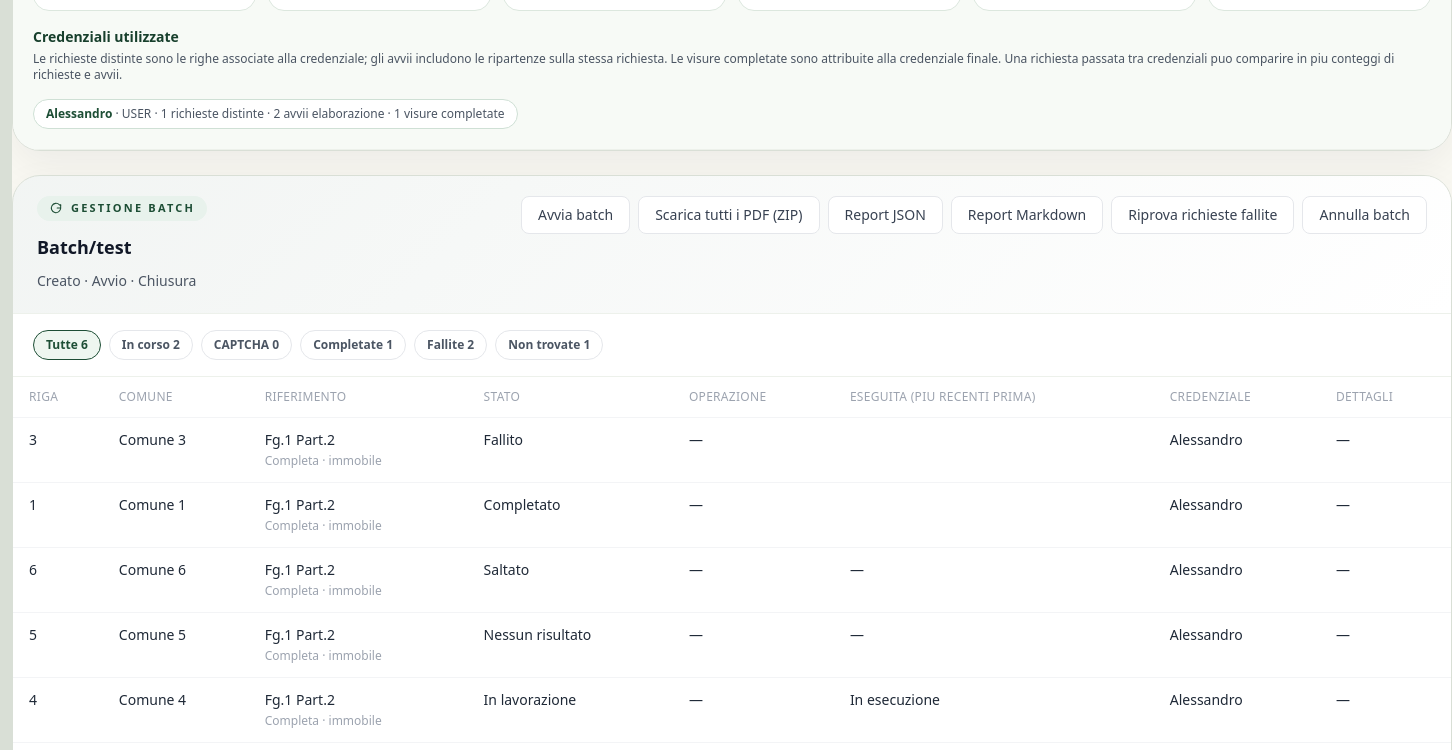
it: batch detail interactions › shows credential names and keeps descending order across filters and refreshes
The width and height of the screenshot is (1452, 750).
(page scrolled)
Click the button "In corso 2".
click(151, 345)  # box top-left (109, 330), bottom-right (193, 360)
(page scrolled)
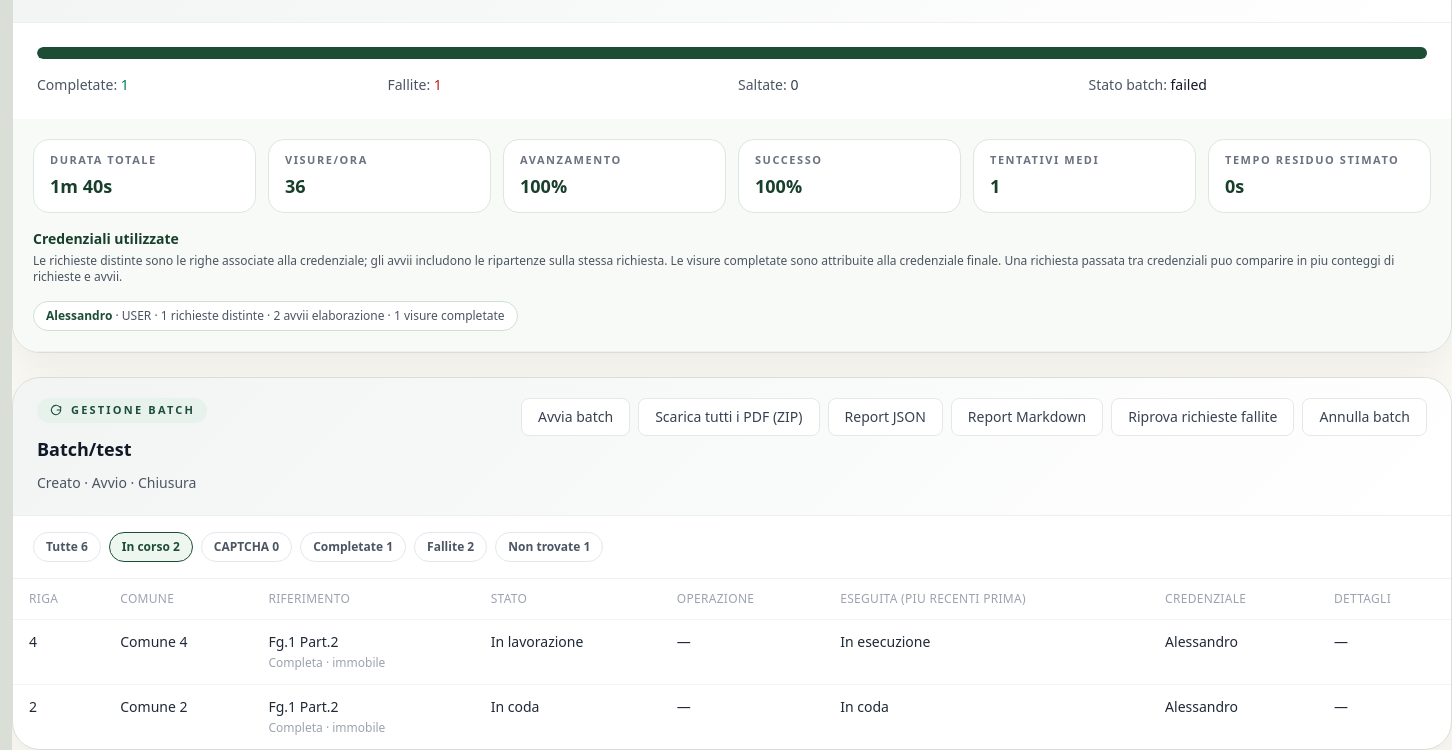
Click the button "Completate 1".
click(353, 547)  # box top-left (300, 532), bottom-right (406, 562)
(page scrolled)
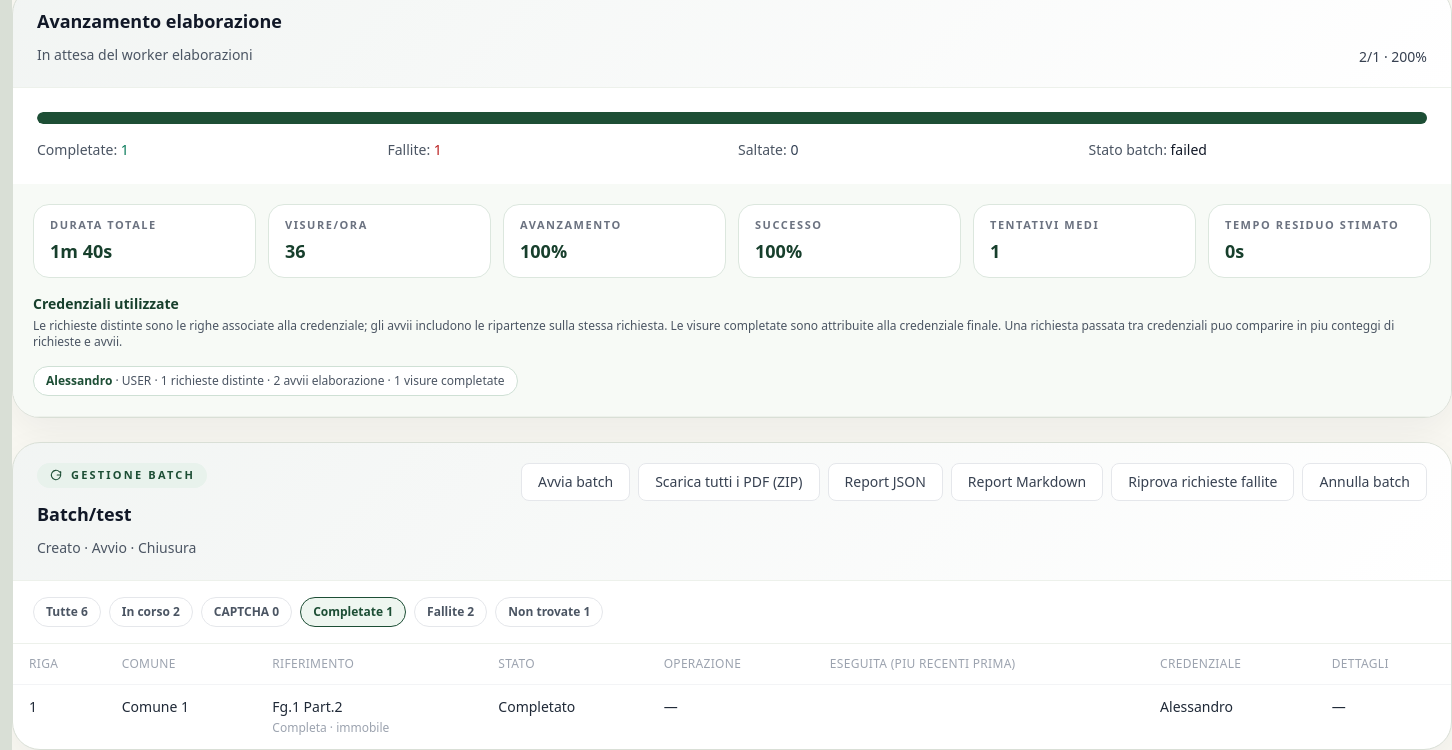
Click the button "Fallite 2".
click(451, 612)  # box top-left (414, 597), bottom-right (487, 627)
(page scrolled)
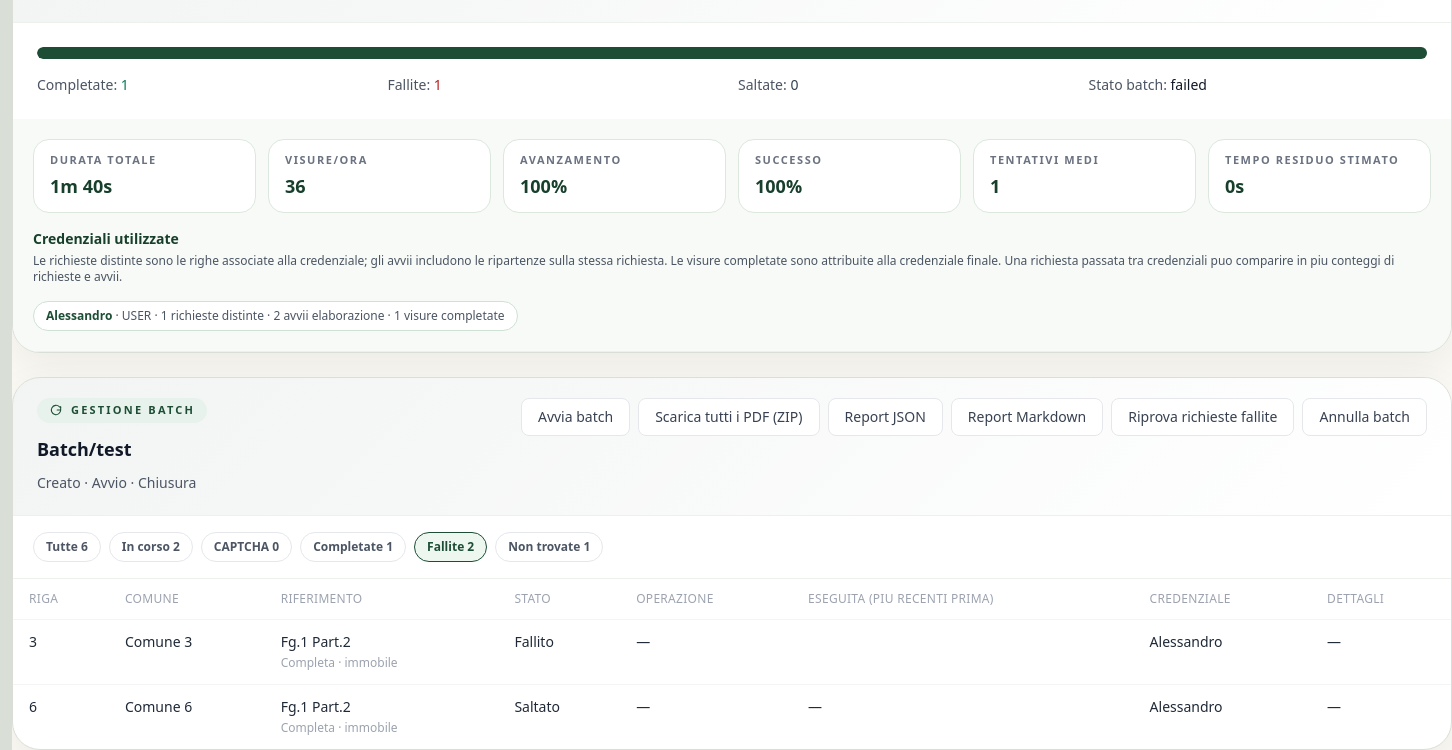
Click the button "Non trovate 1".
click(549, 547)  # box top-left (495, 532), bottom-right (603, 562)
(page scrolled)
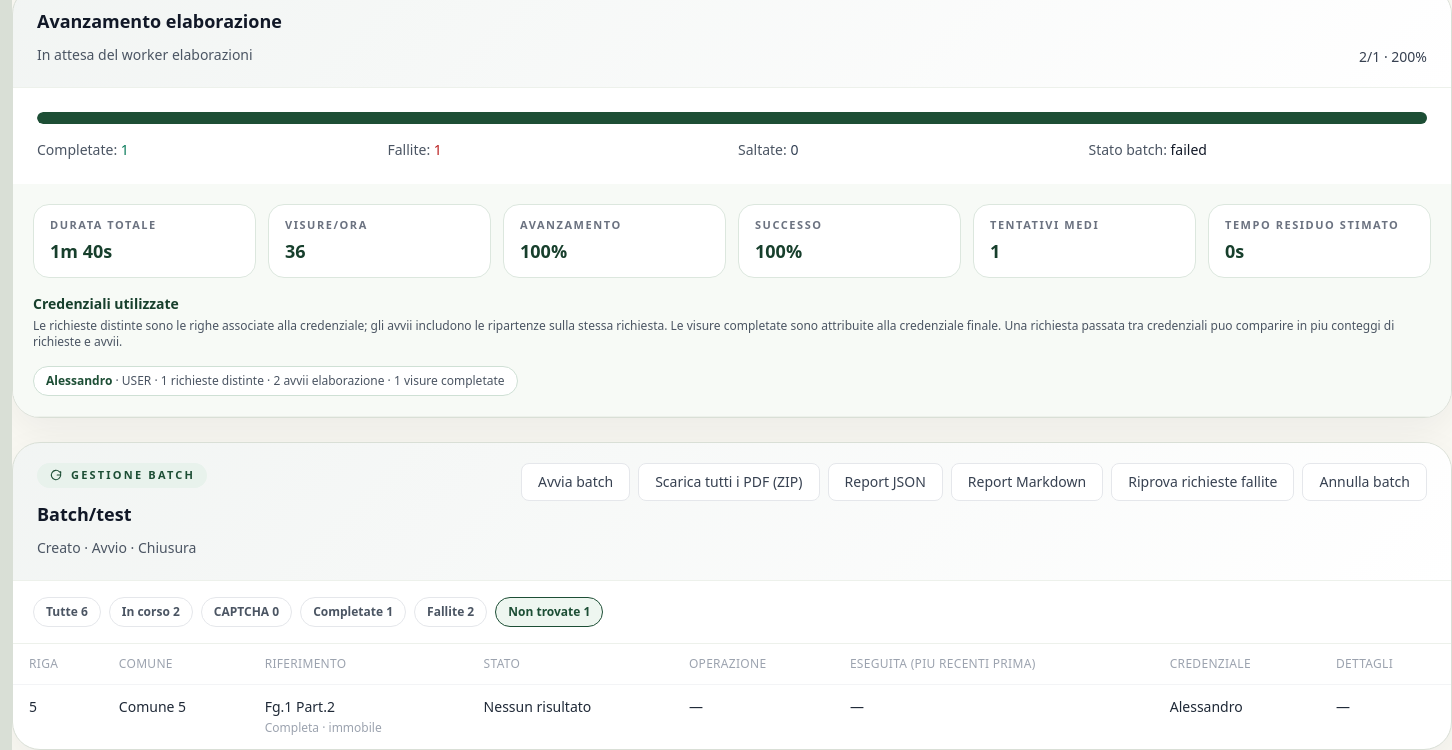
Click the button "CAPTCHA 0".
click(247, 612)  # box top-left (201, 597), bottom-right (292, 627)
(page scrolled)
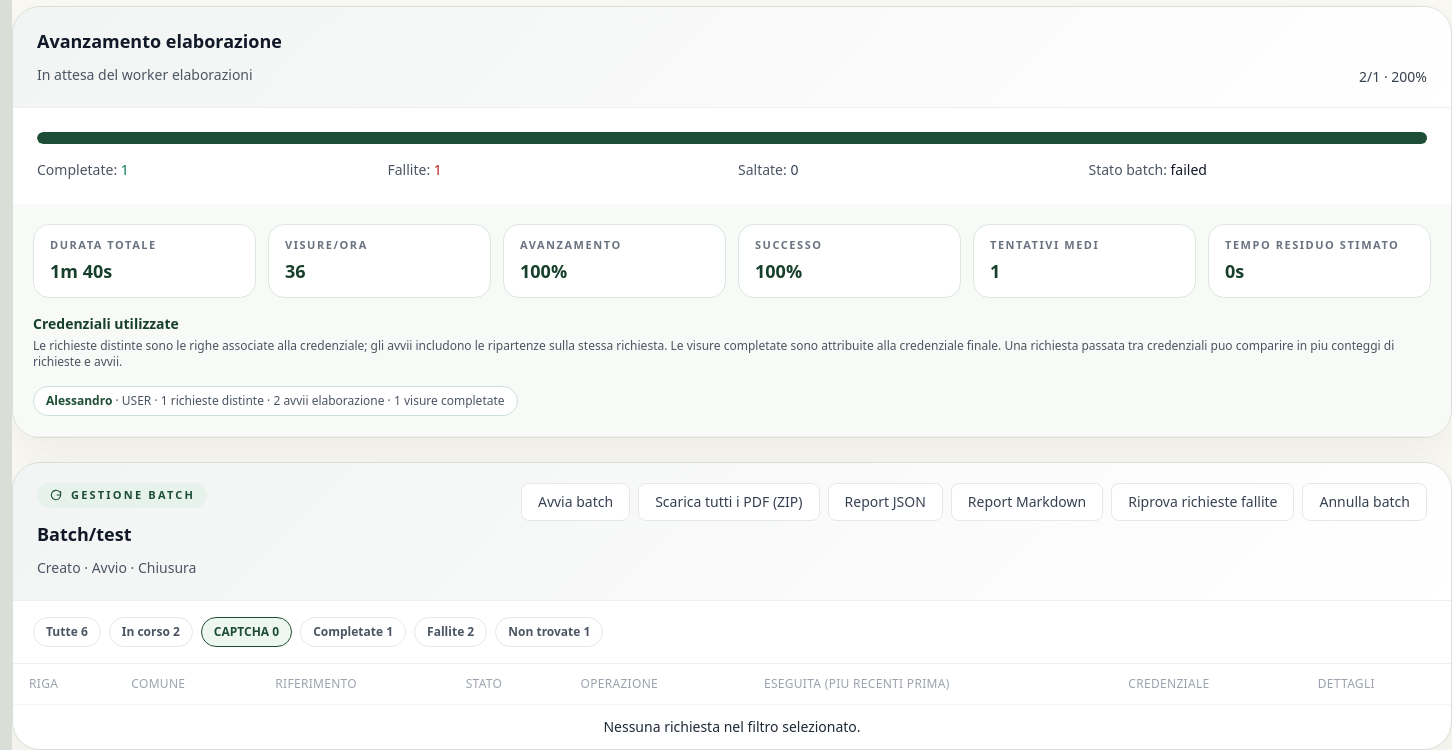
Click the button "Tutte 6".
click(67, 632)  # box top-left (33, 617), bottom-right (101, 647)
Wait 400 ms
(page scrolled)
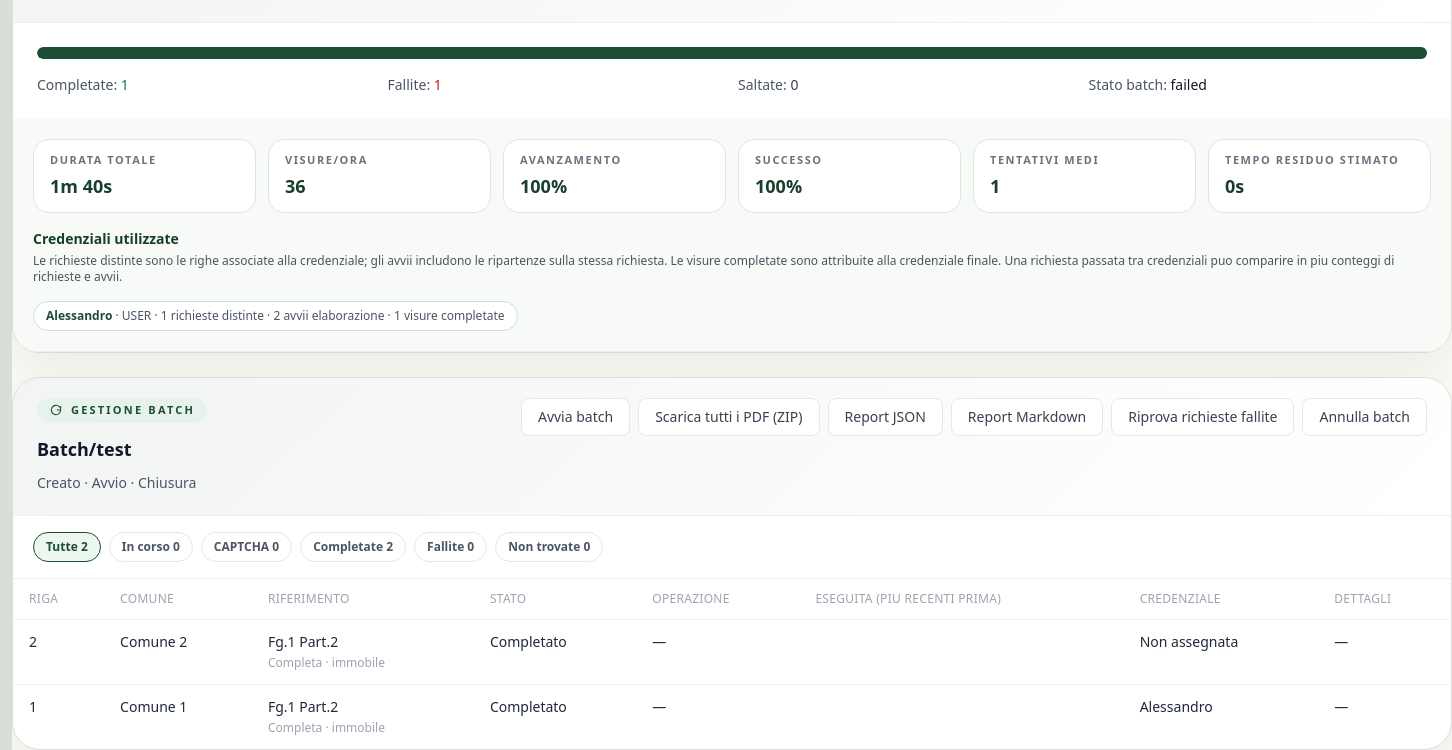
Expected: the text "Non assegnata" is shown, top-left (1124, 620), bottom-right (1318, 685)
